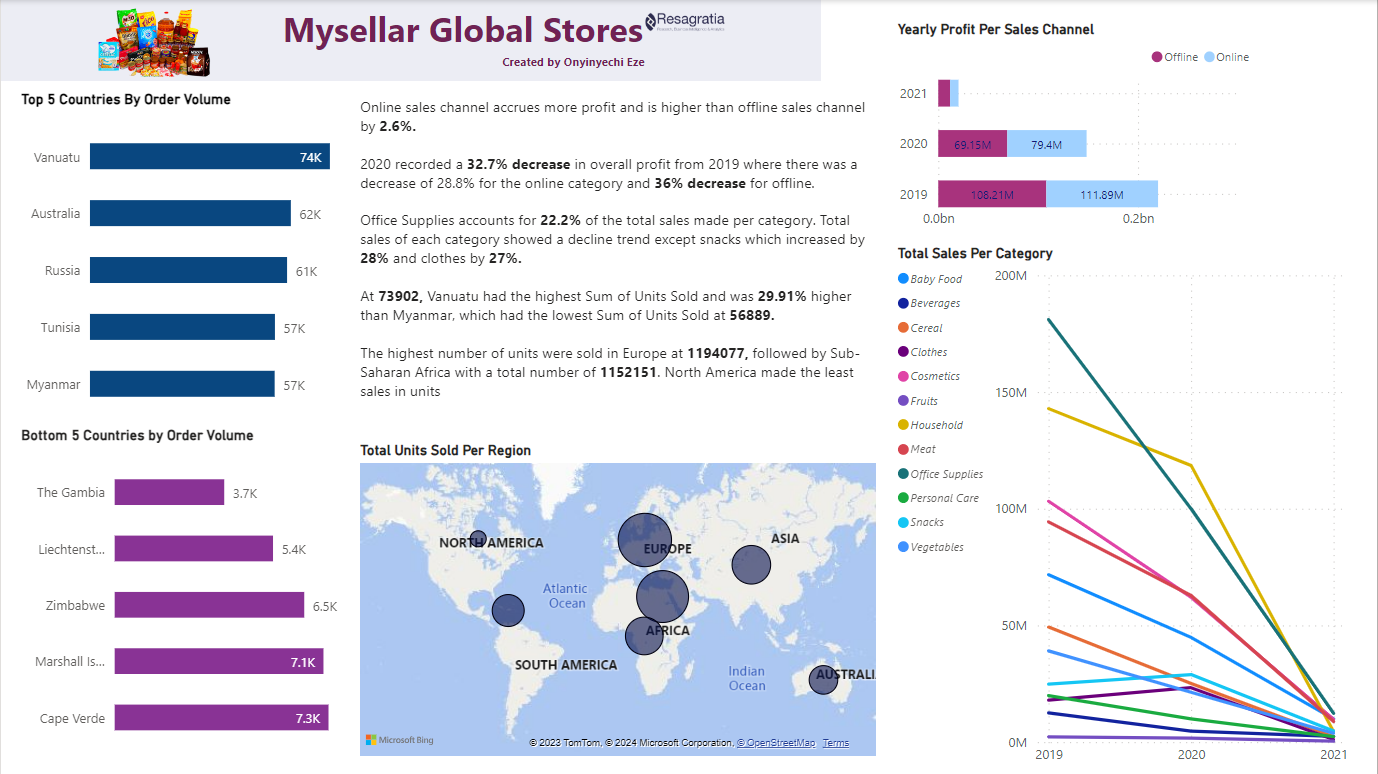

Layout of this report page (visuals, bound fields, positions):
{"tool":"powerbi","page":{"name":"General Analysis","canvas":[1280,720],"ordinal":0},"visuals":[{"type":"barChart","title":"Yearly Profit Per Sales Channel","fields":{"Y":["Sum(SalesTable.Profit)"],"Series":["SalesTable.Sales Channel"],"Category":["Ship Date Table.Year"]},"box":[828.8,19.2,341.7,201.7],"z":0},{"type":"map","title":"Total Units Sold Per Region","fields":{"Category":["SalesTable.Region"],"Size":["Sum(SalesTable.Units Sold)"]},"box":[329.3,411.7,489.9,296.4],"z":1000},{"type":"lineChart","title":"Total Sales Per Category","fields":{"Y":["Sum(SalesTable.Total Revenue)"],"Series":["SalesTable.Category"],"Category":["Order Date Table.Year"]},"box":[828.8,227.8,428.1,492.6],"z":2000},{"type":"barChart","title":"Bottom 5 Countries by Order Volume","fields":{"Category":["SalesTable.Country"],"Y":["Sum(SalesTable.Units Sold)"]},"box":[13.7,397.9,315.6,310.1],"z":3000},{"type":"barChart","title":"Top 5 Countries By Order Volume","fields":{"Category":["SalesTable.Country"],"Y":["Sum(SalesTable.Units Sold)"]},"box":[13.7,85.1,315.6,312.9],"z":4000},{"type":"group","id":"g1","title":"Group 1","box":[0,0,762.6,75.9],"z":5000},{"type":"textbox","box":[329.3,85.1,489.9,312.9],"z":6000},{"type":"textbox","box":[256.8,0,505.8,75.9],"z":7000,"group":"g1"},{"type":"image","box":[0,0,284.8,75.9],"z":8000,"group":"g1"},{"type":"image","box":[552.5,0,175.1,37.9],"z":9000,"group":"g1"}]}

Visuals, with their boxes in screenshot pixels (x1, y1, x2, y2), scaled from the page's 1280x720 canvas onto the 1378x774 screenshot:
"Yearly Profit Per Sales Channel" barChart: crop(892, 21, 1260, 237)
"Total Units Sold Per Region" map: crop(355, 443, 882, 761)
"Total Sales Per Category" lineChart: crop(892, 245, 1353, 773)
"Bottom 5 Countries by Order Volume" barChart: crop(15, 428, 355, 761)
"Top 5 Countries By Order Volume" barChart: crop(15, 91, 355, 428)
"Group 1" group: crop(0, 0, 821, 82)
textbox: crop(355, 91, 882, 428)
textbox: crop(276, 0, 821, 82)
image: crop(0, 0, 307, 82)
image: crop(595, 0, 783, 41)
